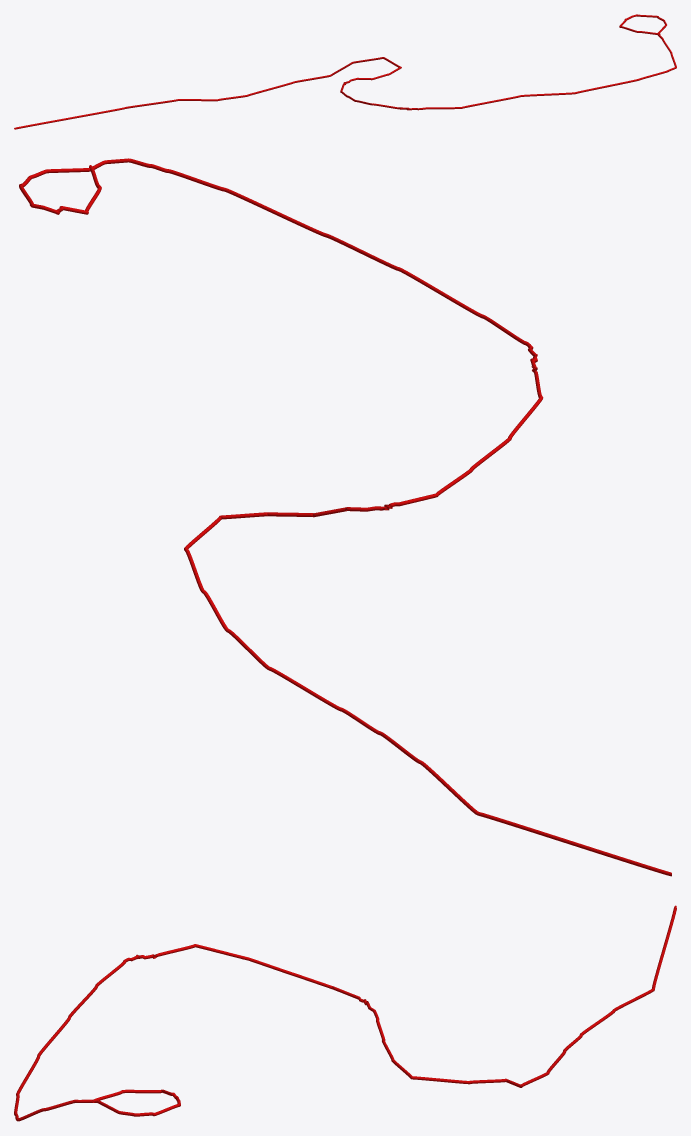
Rendered from footall.dae.
The picture shows the model from 3 angles, top to bottom: view 1: azimuth 30°, elevation 25°; view 2: azimuth 150°, elevation 25°; view 3: azimuth 270°, elevation 25°; orthographic projection. The views are drawn at different scales.
Visible parts, largest first — view 1: BezierCurve_001_001; view 2: BezierCurve_001_001; view 3: BezierCurve_001_001.
Part boxes in pixels (x1=…): BezierCurve_001_001: x1=14, y1=14, x2=676, y2=129; BezierCurve_001_001: x1=19, y1=158, x2=671, y2=876; BezierCurve_001_001: x1=14, y1=905, x2=676, y2=1121.
Bounding box in the file's own units: 278 × 200 × 61.06.
